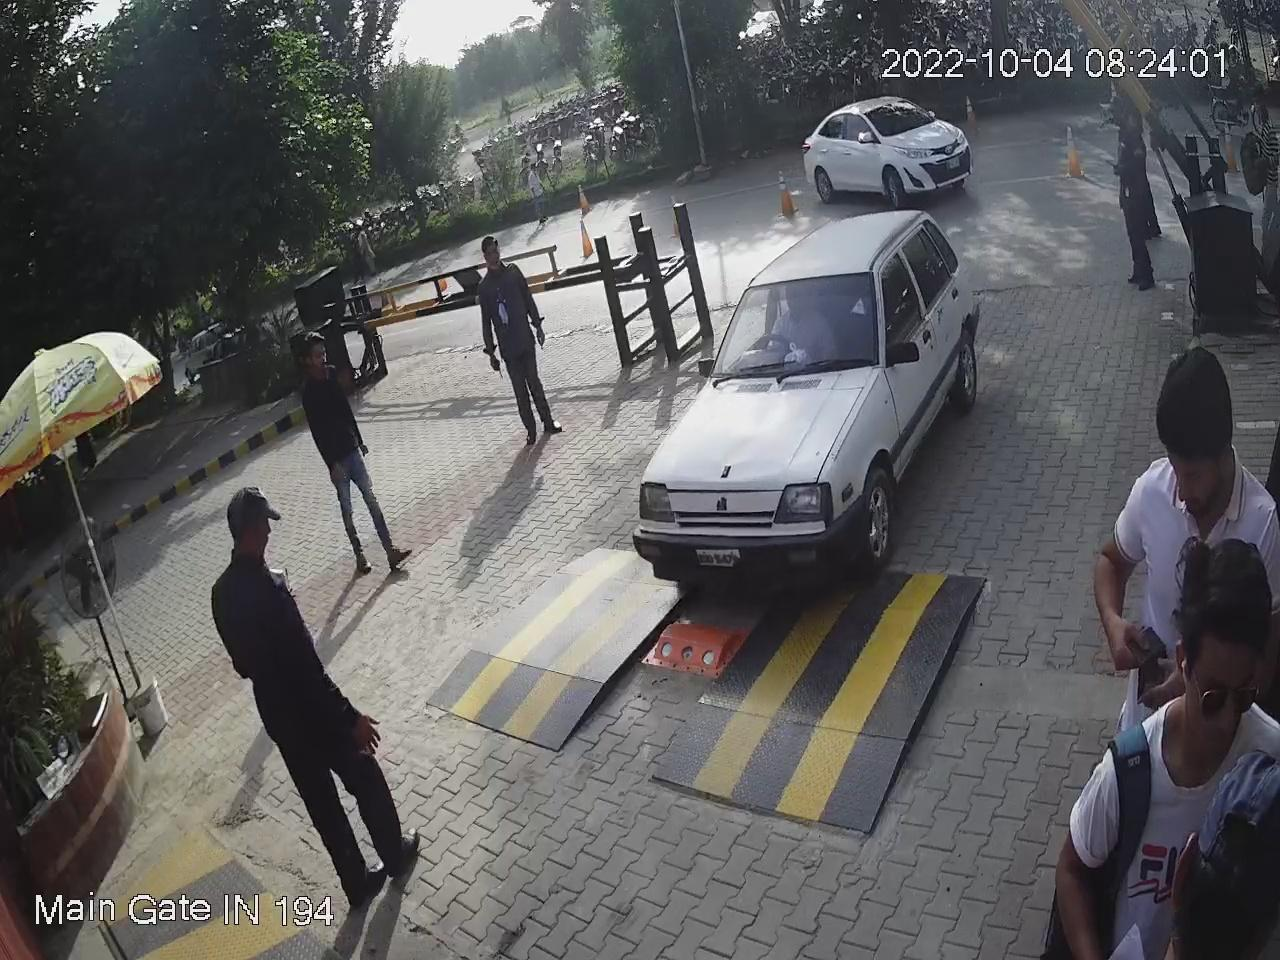windshield: (702, 265, 888, 380)
